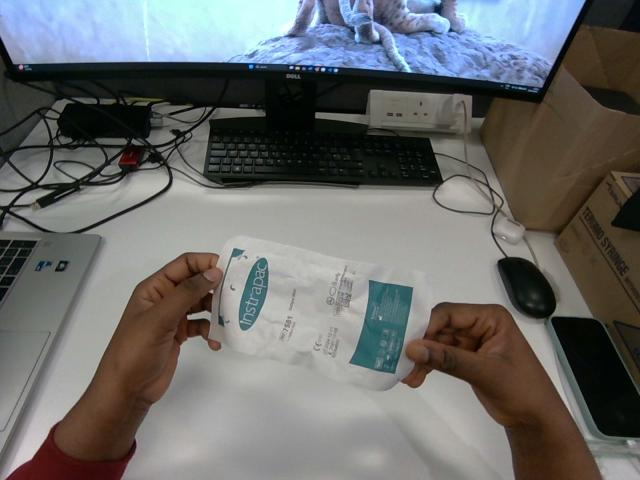gallipot: (209, 236, 430, 389)
